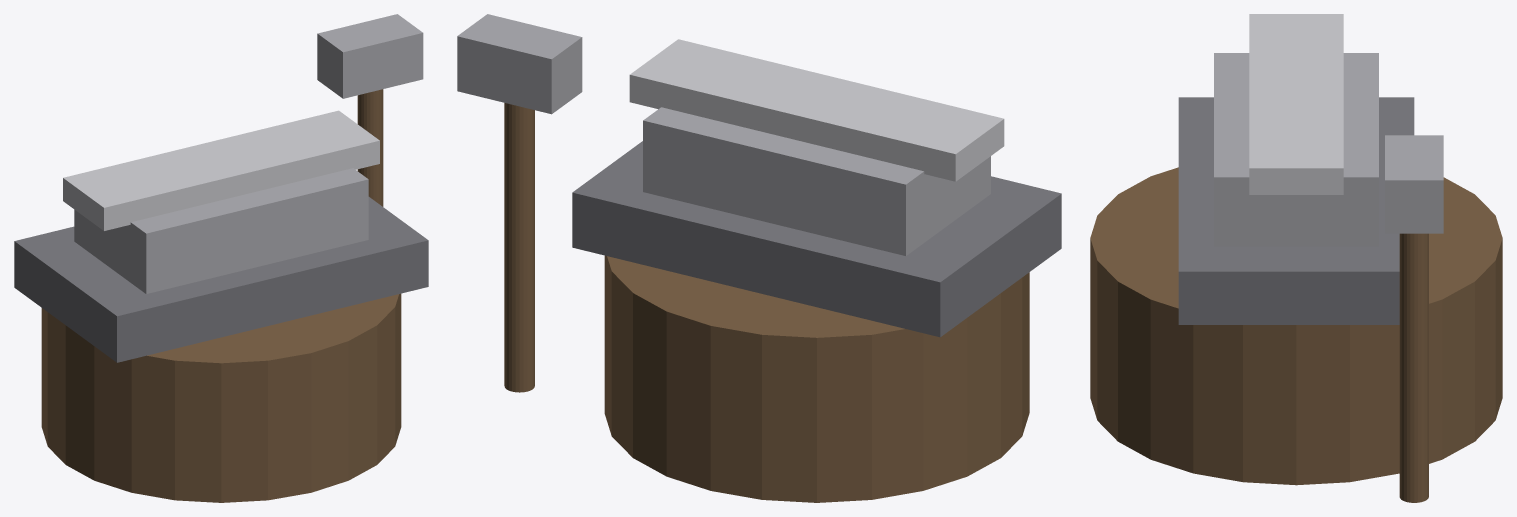
Rendered from forge_station.glb.
3 renders of one model, left to right at view 1: azimuth 30°, elevation 25°; view 2: azimuth 150°, elevation 25°; view 3: azimuth 270°, elevation 25°, orthographic. The views are drawn at different scales.
Visible parts, largest first — view 1: forge; view 2: forge; view 3: forge.
Part boxes in pixels (x1,y1,x2,y2): forge: (14,14,428,502); forge: (457,14,1061,502); forge: (1090,14,1502,502).
Size of the model in its own units: 0.89 by 0.66 by 0.7.
